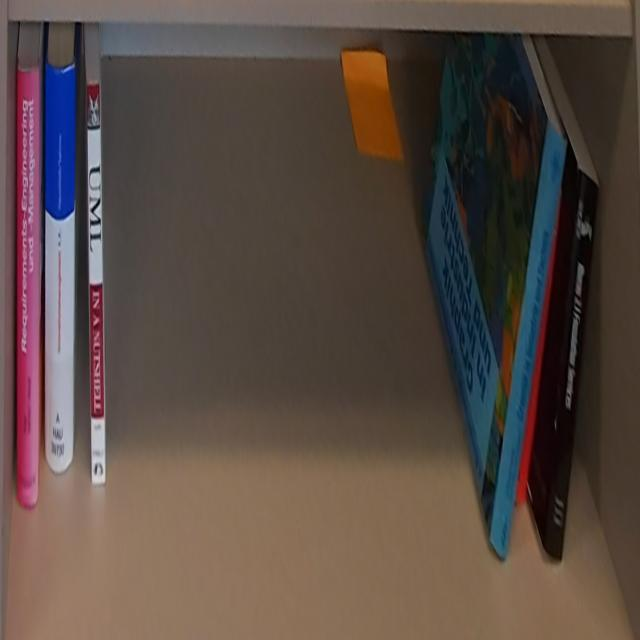Book Spine: (489, 117, 569, 564), (543, 166, 603, 562), (45, 62, 78, 477), (16, 65, 39, 510), (87, 82, 106, 485)
